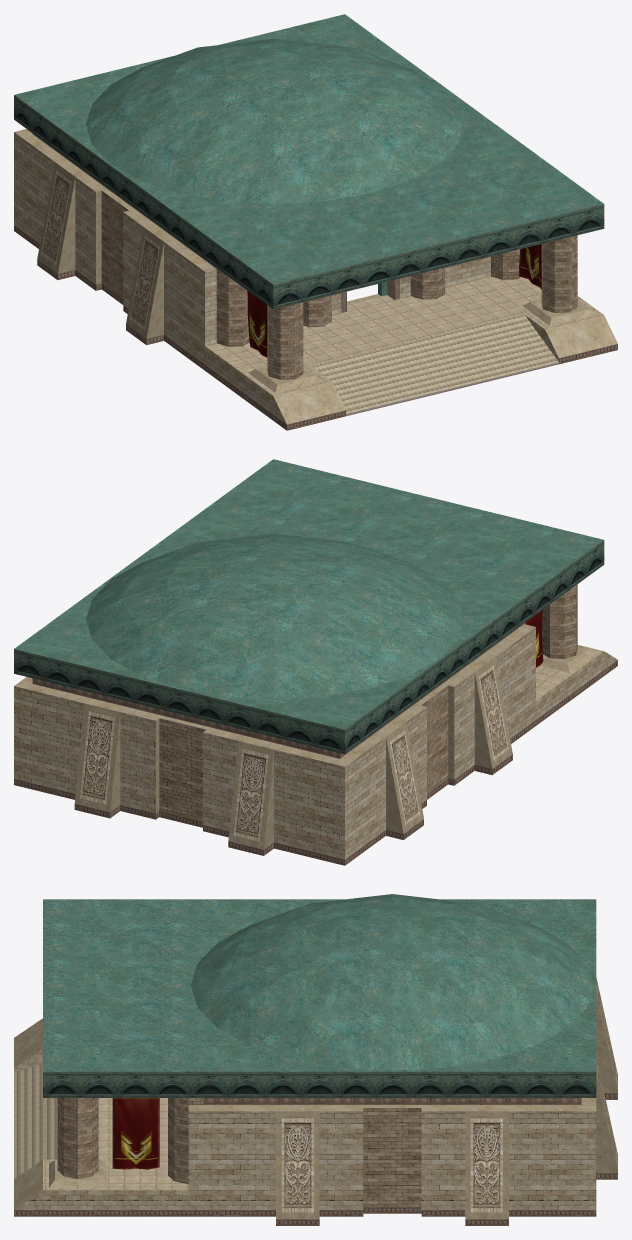
The model's file is mun_nboo_guild_university_s01_r0_exterior_mesh_exterior_l1.fbx.
3 views of the same model, one above another, from view 1: azimuth 30°, elevation 25°; view 2: azimuth 150°, elevation 25°; view 3: azimuth 270°, elevation 25° (orthographic). The views are drawn at different scales.
Parts seen in each view (by area): view 1: mesh_node; view 2: mesh_node; view 3: mesh_node.
Boxes of the visible parts, x1,y1,x2,y2 form: mesh_node: (14, 14, 617, 430); mesh_node: (14, 459, 617, 865); mesh_node: (14, 894, 617, 1225).
Size of the model in its own units: 38.75 by 18.75 by 51.88.
